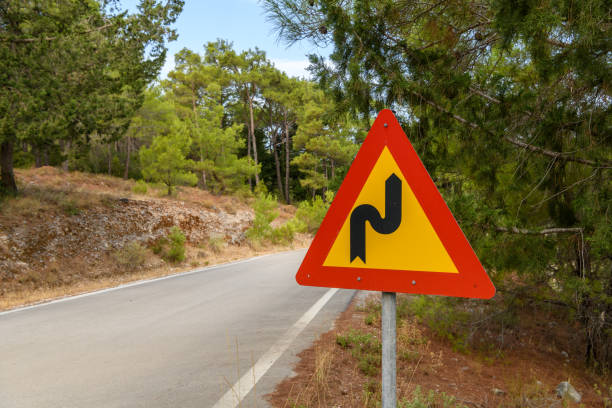right turn: (293, 109, 495, 298)
